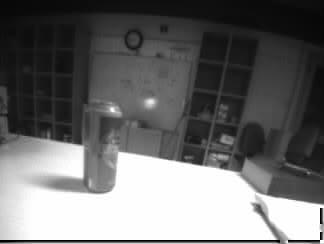Tin can: (83, 99, 119, 193)
